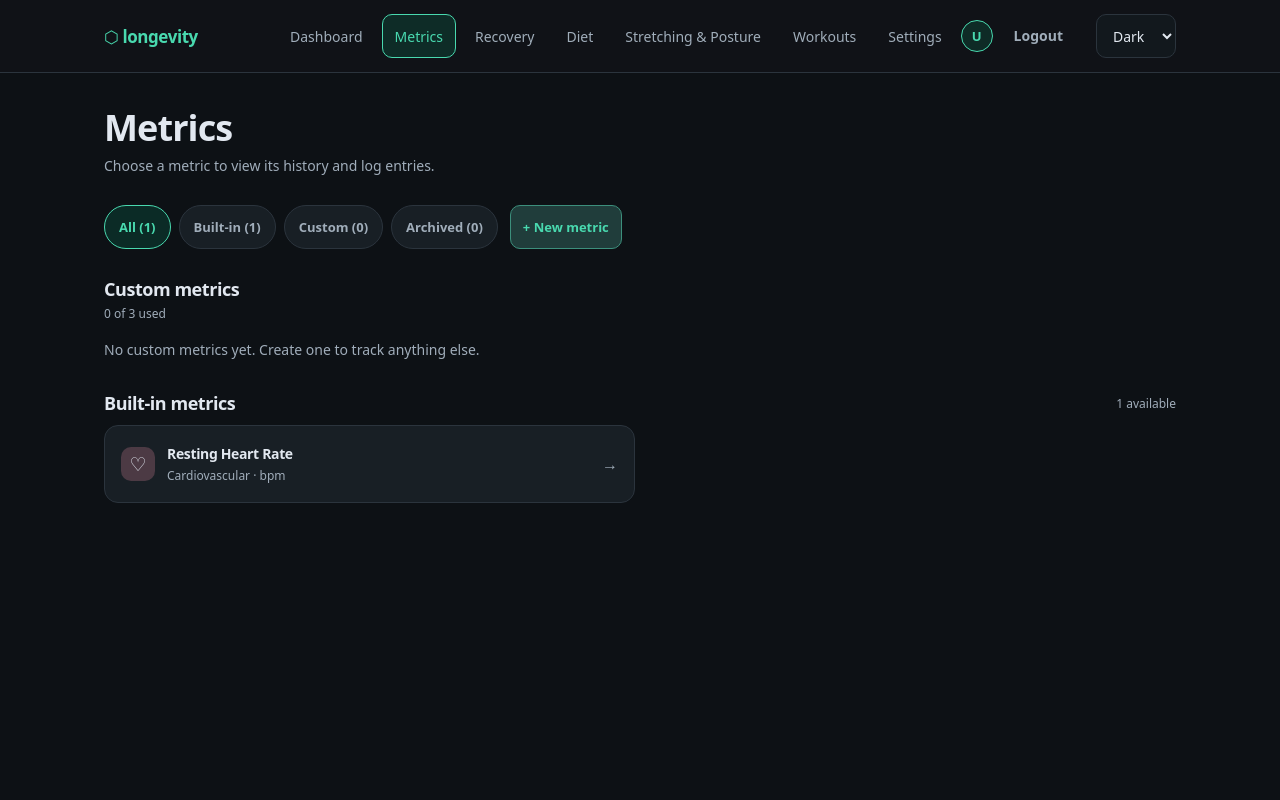
it: metrics route › opens and cancels the custom metric dialog
The width and height of the screenshot is (1280, 800).
Check: the heading "Metrics" is shown, box [104, 103, 232, 152]
Click the button "+ New metric".
click(566, 227)  # box [510, 205, 622, 249]
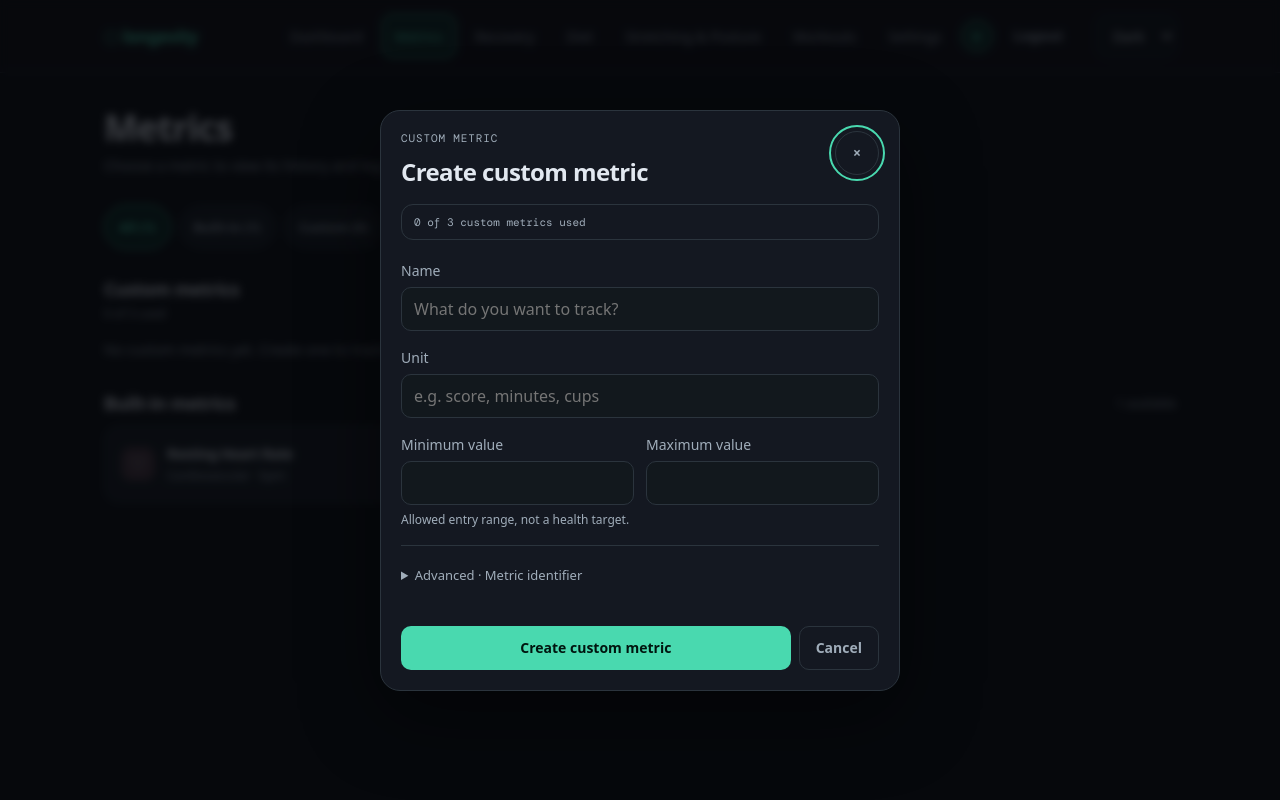
Check: the dialog "Create custom metric" is shown, box [380, 110, 900, 690]
Click the button "Cancel".
click(839, 648)  # box [799, 626, 879, 670]
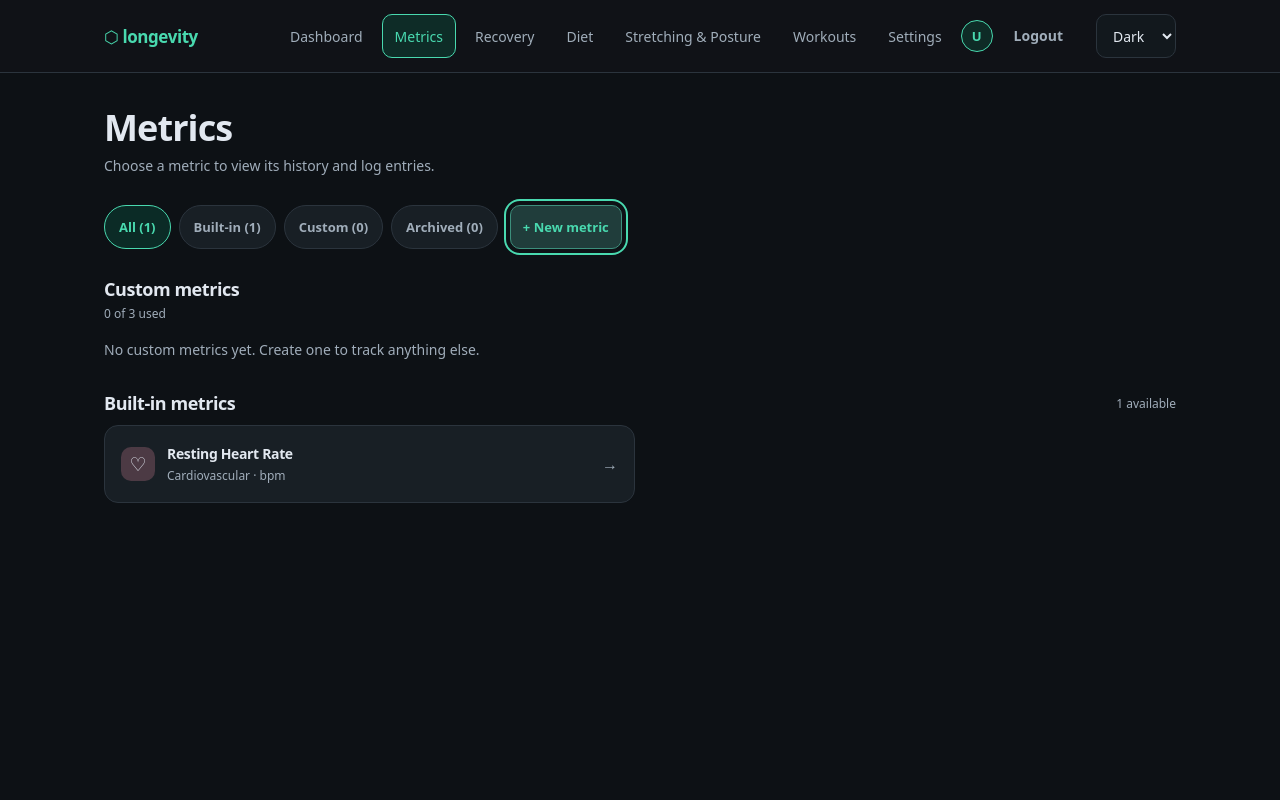
Check: the dialog is gone
